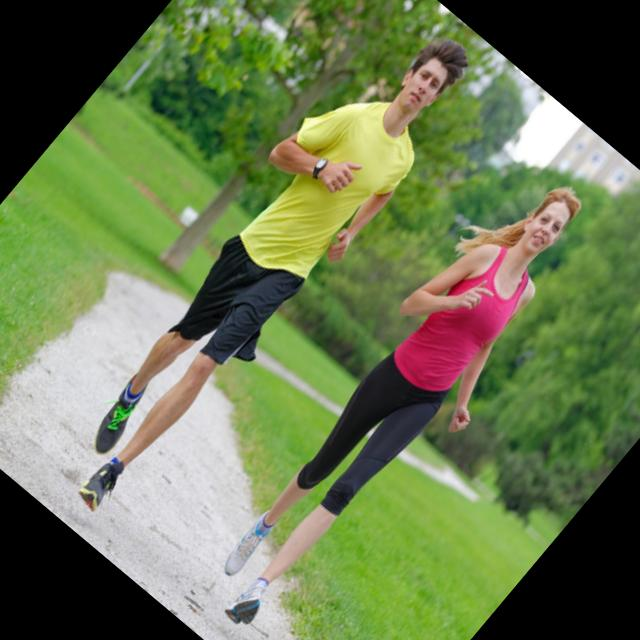Person: (20, 0, 493, 527), (175, 154, 624, 640)
